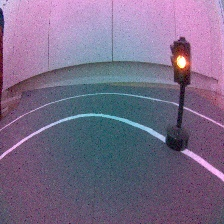amber: (164, 36, 196, 154)
